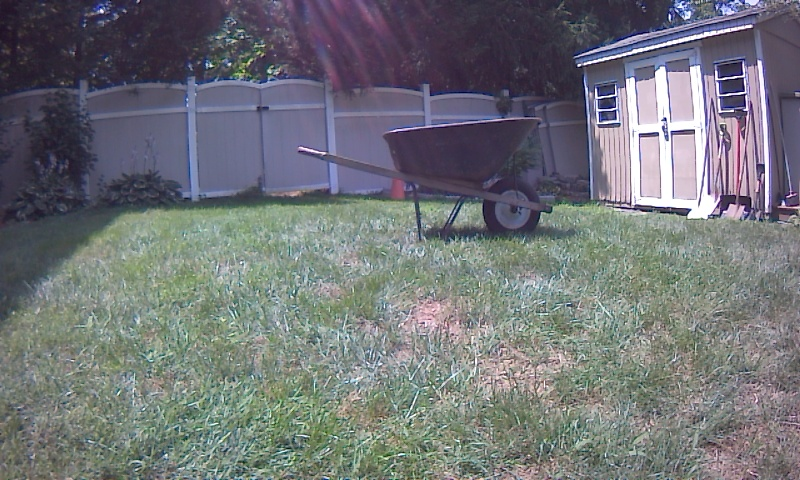wheelbarrow: (271, 109, 588, 269)
